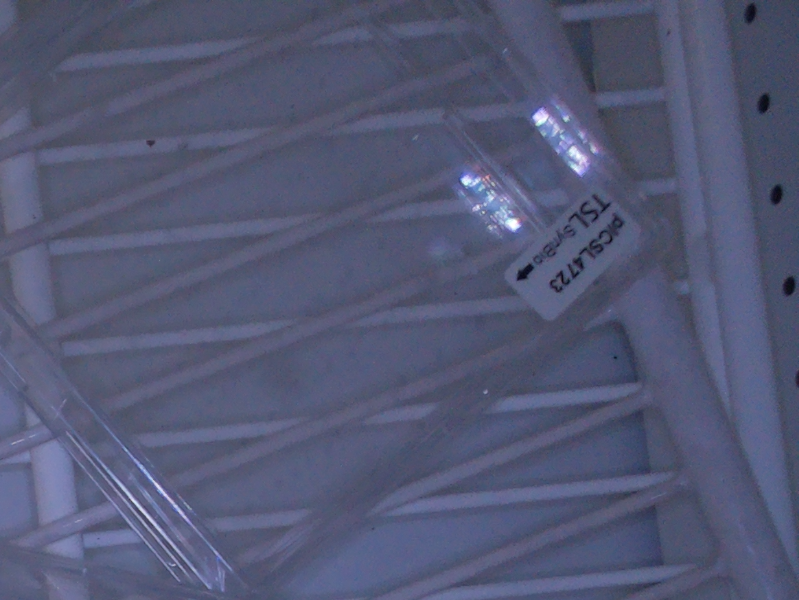plate: (1, 1, 676, 581)
